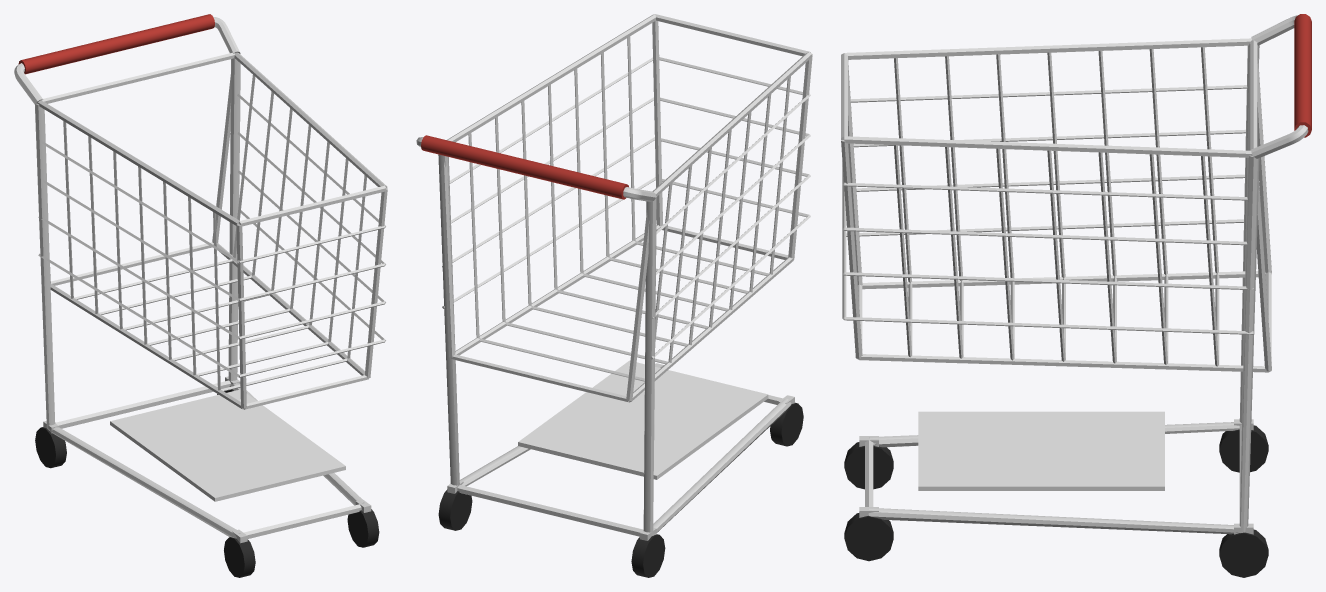
The model's file is SM_Shopping_Cart.fbx.
The picture shows the model from 3 angles, left to right: view 1: azimuth 30°, elevation 25°; view 2: azimuth 150°, elevation 25°; view 3: azimuth 270°, elevation 25°; orthographic projection. The views are drawn at different scales.
Visible parts, largest first — view 1: SM_Shopping_Cart_1; view 2: SM_Shopping_Cart_1; view 3: SM_Shopping_Cart_1.
Part boxes in pixels (x1,y1,x2,y2): SM_Shopping_Cart_1: [14, 14, 387, 577]; SM_Shopping_Cart_1: [416, 14, 812, 577]; SM_Shopping_Cart_1: [841, 14, 1311, 577].
Bounding box in the file's own units: 57.86 × 102 × 95.49.
